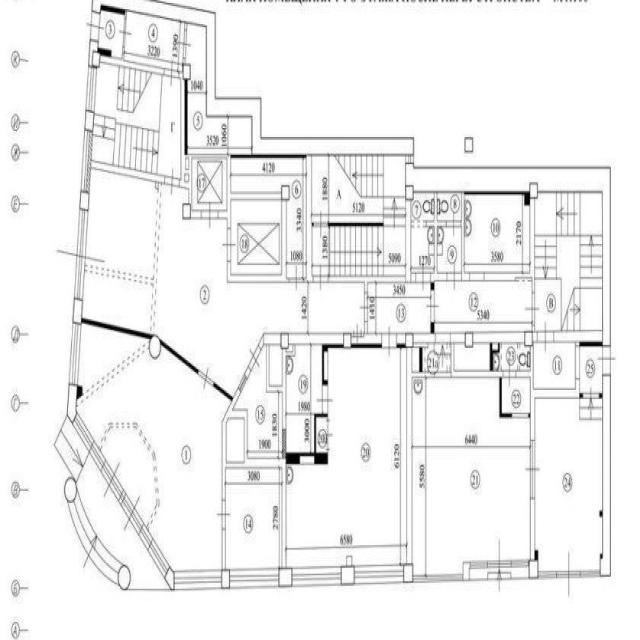Bathrooms: (465, 194, 530, 271), (287, 345, 321, 451), (438, 228, 461, 273), (493, 344, 530, 369), (411, 228, 433, 270), (437, 193, 461, 220), (412, 193, 434, 218)
Corridors: (83, 171, 364, 396), (76, 326, 230, 569), (77, 454, 169, 588), (232, 159, 306, 278), (188, 25, 251, 154), (435, 280, 531, 331), (127, 13, 184, 71), (368, 284, 430, 331), (534, 345, 575, 388), (99, 7, 123, 57), (502, 378, 530, 412), (502, 379, 529, 412), (317, 419, 327, 451)
Doors: (54, 209, 105, 298), (556, 549, 581, 599), (101, 458, 125, 504), (120, 492, 144, 536), (524, 440, 540, 500), (487, 538, 512, 574), (85, 11, 105, 41), (537, 319, 554, 352), (381, 324, 397, 359), (118, 14, 133, 51), (597, 346, 616, 375), (221, 228, 237, 262), (313, 208, 329, 240), (524, 292, 540, 324), (316, 386, 334, 414), (164, 166, 180, 197), (202, 198, 218, 229), (446, 209, 462, 239), (446, 260, 461, 292), (314, 262, 329, 293), (416, 261, 431, 292), (215, 499, 231, 528), (289, 262, 304, 292), (426, 290, 440, 322), (177, 29, 192, 58), (164, 59, 179, 88), (198, 365, 214, 392), (358, 291, 371, 322), (248, 344, 262, 372), (583, 384, 599, 406), (503, 362, 516, 388), (323, 420, 334, 450), (575, 345, 580, 379), (435, 332, 450, 342), (469, 272, 484, 281), (435, 372, 451, 378), (411, 219, 423, 227), (512, 413, 528, 418)
LBwalls: (91, 0, 414, 155), (405, 165, 611, 192), (600, 375, 611, 577), (602, 192, 611, 346), (67, 383, 77, 422), (72, 298, 83, 324), (88, 39, 98, 67), (341, 566, 355, 586), (279, 568, 293, 587), (79, 191, 90, 211), (165, 567, 174, 591), (84, 109, 94, 130), (221, 570, 230, 590), (529, 559, 538, 579), (404, 565, 413, 583), (463, 561, 470, 582), (405, 156, 414, 164)
Offices: (287, 348, 406, 567), (412, 378, 530, 575), (535, 399, 602, 570), (226, 470, 281, 568), (235, 346, 282, 457)
Stairs: (313, 157, 405, 276), (92, 64, 180, 178), (536, 193, 602, 330), (63, 477, 131, 592), (53, 415, 89, 483), (580, 342, 602, 421), (470, 568, 529, 594), (413, 344, 451, 372)
Walls: (221, 322, 381, 567), (450, 324, 580, 440), (192, 154, 289, 284), (328, 193, 416, 291), (82, 319, 198, 375), (406, 344, 435, 565), (485, 192, 535, 293), (422, 193, 446, 289), (91, 160, 164, 185), (451, 343, 503, 378), (98, 55, 164, 77), (303, 155, 313, 284), (179, 71, 187, 188), (188, 155, 201, 221), (397, 323, 435, 344), (554, 331, 602, 346), (462, 192, 469, 282), (499, 378, 512, 419), (213, 381, 233, 402), (530, 499, 535, 560), (221, 529, 226, 569), (244, 366, 251, 379), (182, 58, 186, 72), (122, 51, 126, 59), (184, 23, 187, 29), (528, 412, 530, 419)
Windows: (175, 570, 221, 591), (230, 569, 278, 588), (293, 567, 341, 586), (355, 566, 404, 584), (148, 539, 170, 579), (68, 323, 82, 385), (73, 412, 94, 452), (80, 129, 93, 192), (88, 440, 106, 473), (85, 65, 97, 112), (138, 522, 152, 551), (413, 575, 463, 582), (238, 373, 248, 393), (538, 570, 556, 579), (512, 558, 529, 567), (581, 570, 600, 578), (470, 560, 487, 568)
